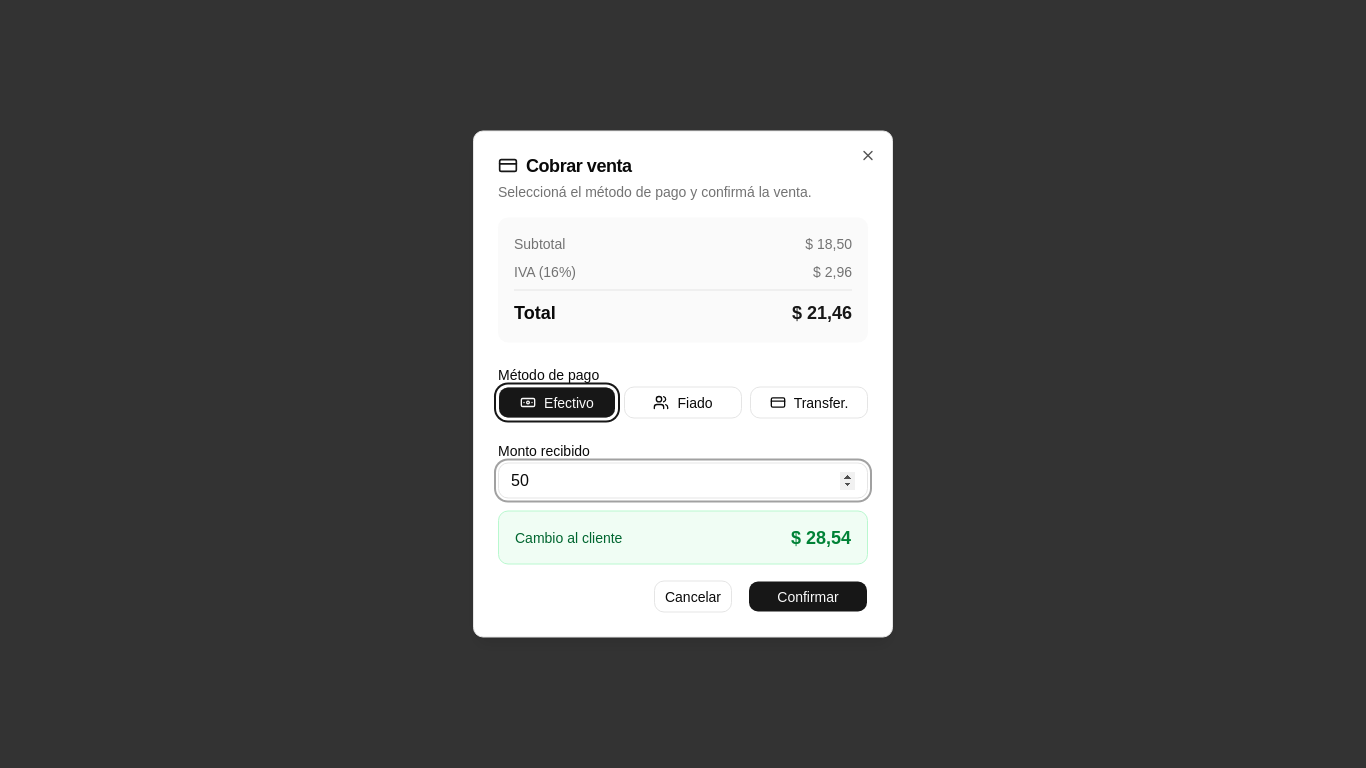
PaymentDialog › muestra campos de transferencia al seleccionar transferencia
Click the button "Transfer." at (809, 402), box [750,386,868,418]
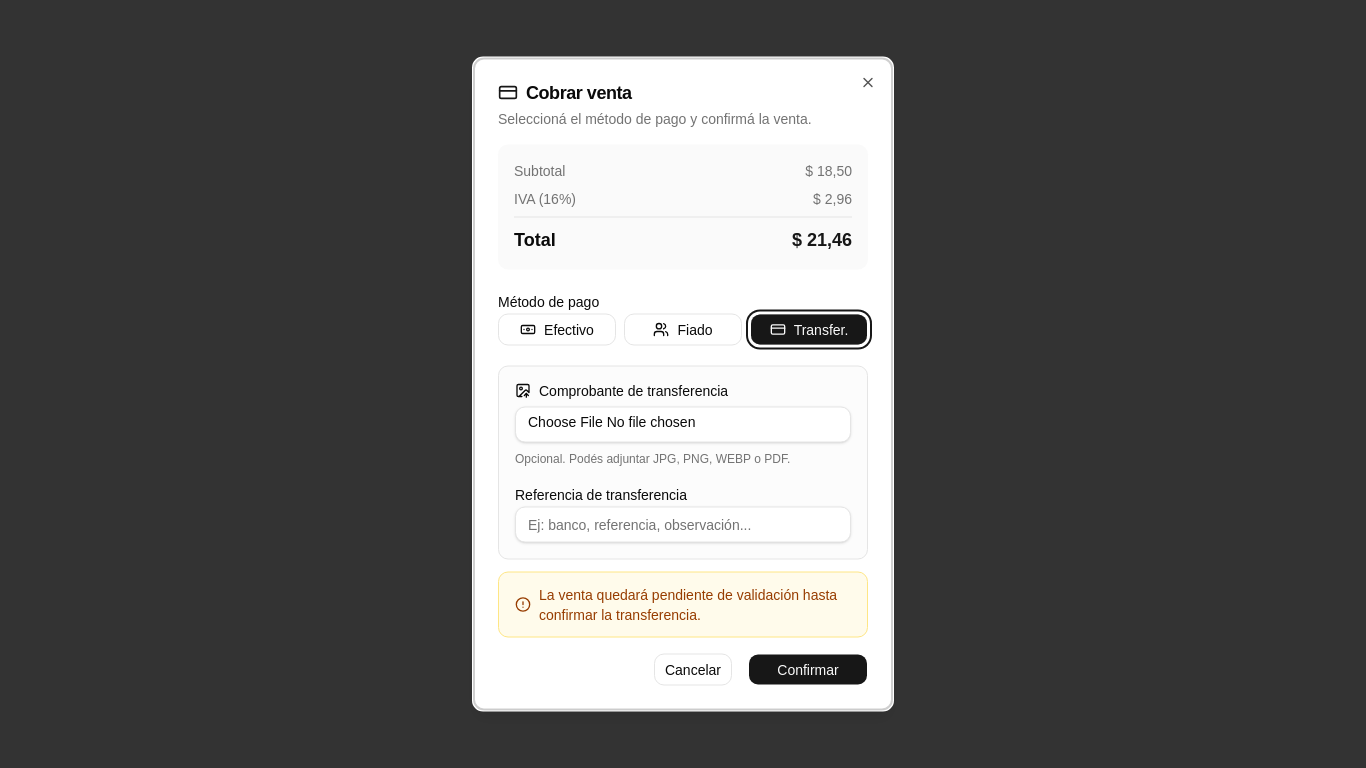
Check: the file field labelled "Comprobante de transferencia" is shown, box [515,406,851,442]
Check: the field labelled "Referencia de transferencia" is shown, box [515,506,851,542]
